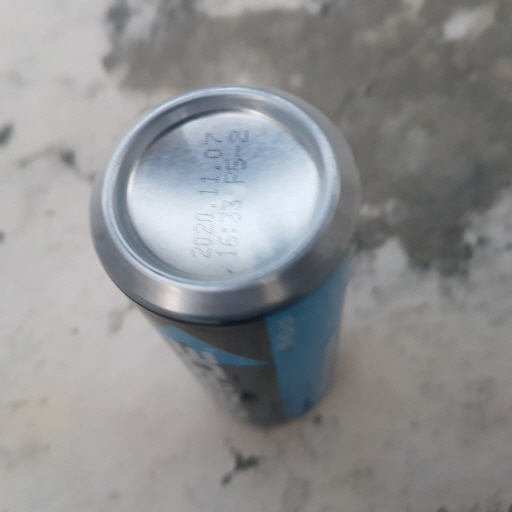Metal_0: (87, 84, 366, 424)
